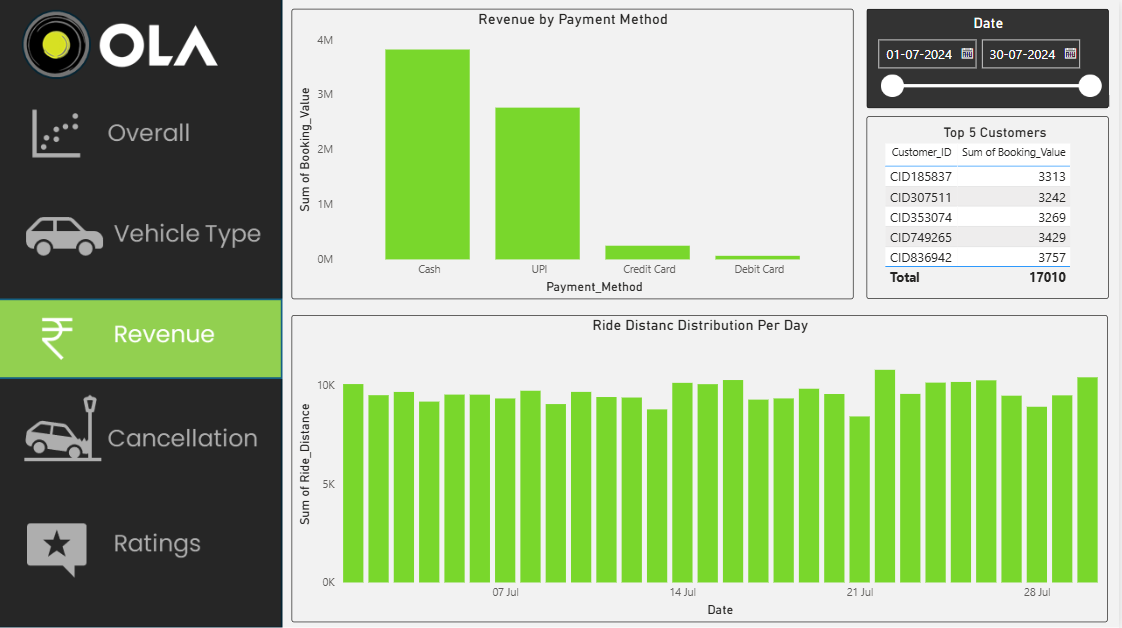

The dashboard page shown, as its layout file describes it:
{"tool":"powerbi","page":{"name":"Revenue","canvas":[1280,720],"ordinal":2},"visuals":[{"type":"actionButton","box":[0,224.4,324.5,90.5],"z":0},{"type":"actionButton","box":[0,341.4,324.5,90.5],"z":1000},{"type":"actionButton","box":[0,447.6,324.5,90.5],"z":2000},{"type":"actionButton","box":[0,582.7,324.5,90.5],"z":3000},{"type":"actionButton","box":[0,109.8,324.5,90.5],"z":4000},{"type":"columnChart","title":"Revenue by Payment Method","fields":{"Category":["Bookings.Payment_Method"],"Y":["Sum(Bookings.Booking_Value)"]},"box":[334.8,9.6,642.2,332.1],"z":5000},{"type":"columnChart","title":"Ride Distanc Distribution Per Day","fields":{"Y":["Sum(Bookings.Ride_Distance)"],"Category":["Bookings.Date"]},"box":[334.8,359.5,933.1,351.3],"z":6000},{"type":"slicer","title":"Date","fields":{"Values":["Bookings.Date"]},"box":[990.7,9.6,277.2,113.9],"z":7000},{"type":"tableEx","title":"Top 5 Customers","fields":{"Values":["Bookings.Customer_ID","Sum(Bookings.Booking_Value)"]},"box":[990.7,133.1,277.2,208.6],"z":8000}]}

Visuals, with their boxes in screenshot pixels (x1, y1, x2, y2), scaled from the page's 1280x720 canvas onto the 1122x628 screenshot:
actionButton: bbox=[0, 196, 284, 275]
actionButton: bbox=[0, 298, 284, 377]
actionButton: bbox=[0, 390, 284, 469]
actionButton: bbox=[0, 508, 284, 587]
actionButton: bbox=[0, 96, 284, 175]
"Revenue by Payment Method" columnChart: bbox=[293, 8, 856, 298]
"Ride Distanc Distribution Per Day" columnChart: bbox=[293, 314, 1111, 620]
"Date" slicer: bbox=[868, 8, 1111, 108]
"Top 5 Customers" tableEx: bbox=[868, 116, 1111, 298]
